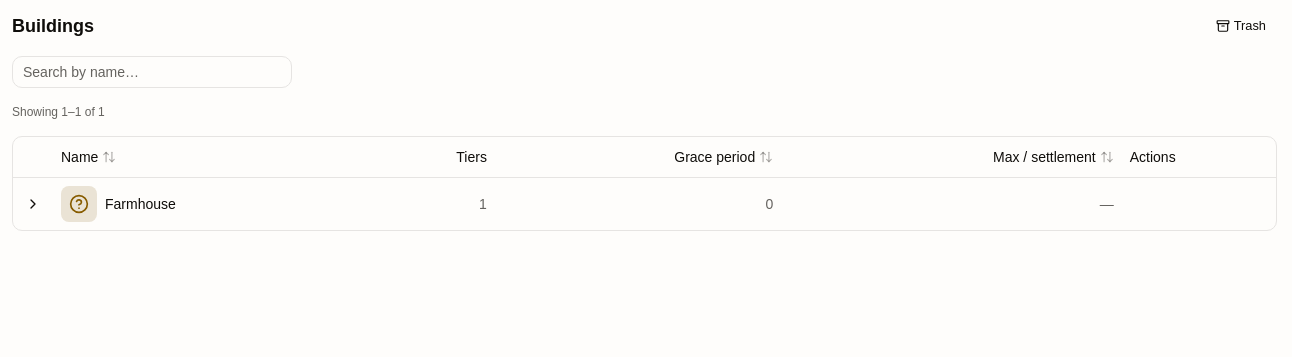
BuildingsConfigPanel › expands a blueprint row to show its tiers, and collapses it again
Expected: the text "Farmhouse" is shown, [105,194,176,214]
Click the button named "Farmhouse tiers" at [33, 204], box [21,192,45,216]
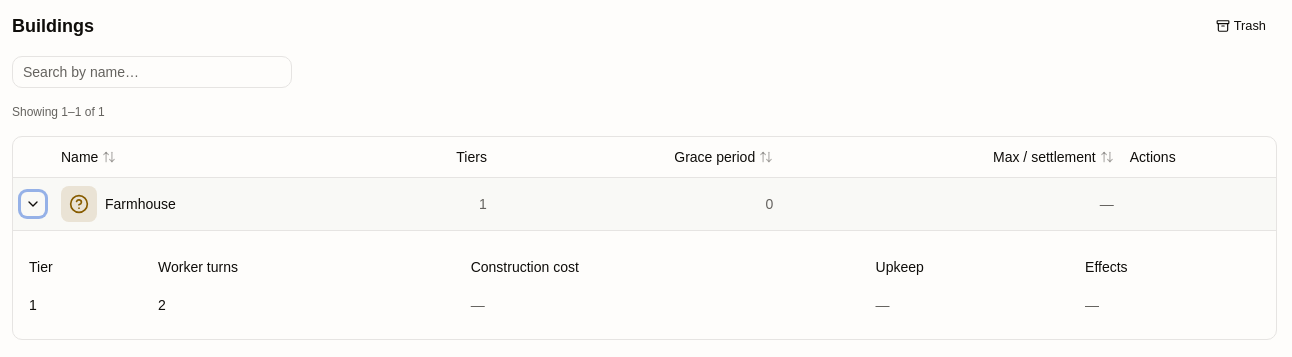
Expected: the column heading "Tier" is shown, [21,246,150,286]
Expected: the button named "Farmhouse tiers" is expanded
Click the button named "Farmhouse tiers" at [33, 204], box [21,192,45,216]
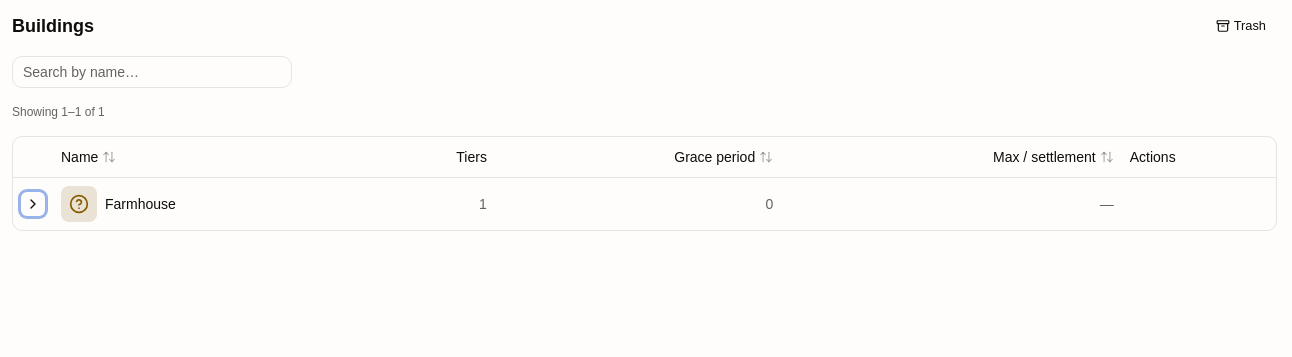
Expected: the button named "Farmhouse tiers" is collapsed, [21,192,45,216]
